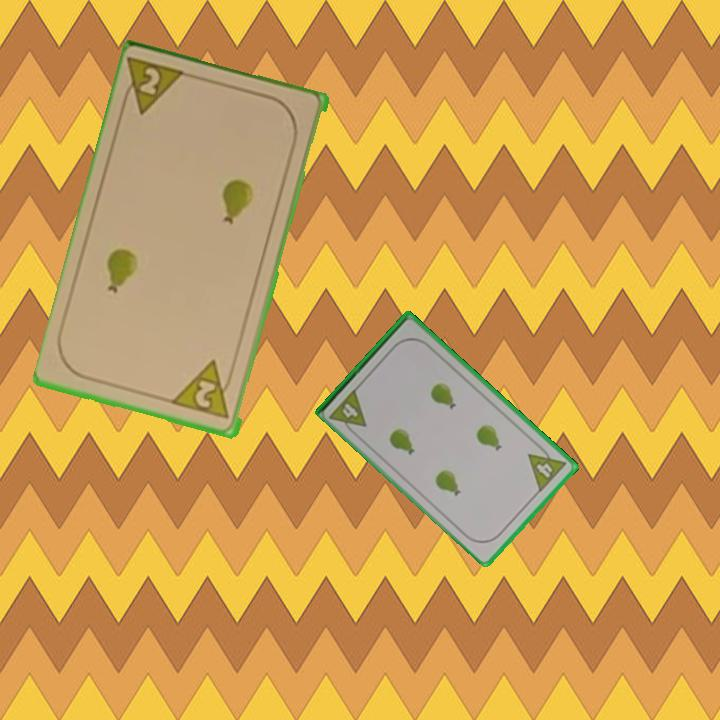2p: (117, 54, 191, 119), (171, 357, 236, 423)
4p: (525, 440, 569, 495), (326, 384, 369, 439)
